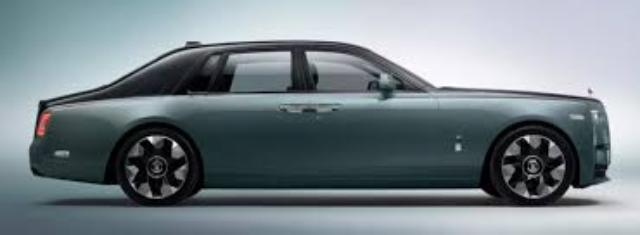rolls-royce: (29, 41, 611, 207)
